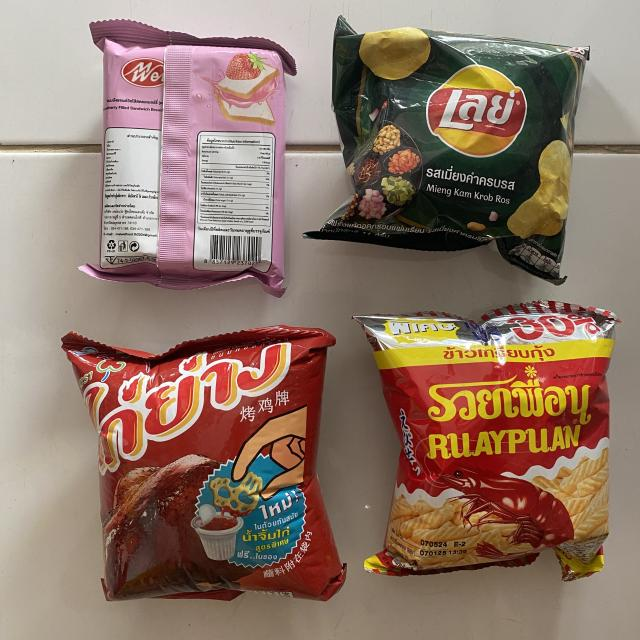plastik: (62, 325, 345, 600), (305, 18, 589, 285), (356, 301, 618, 580), (81, 21, 295, 295)
